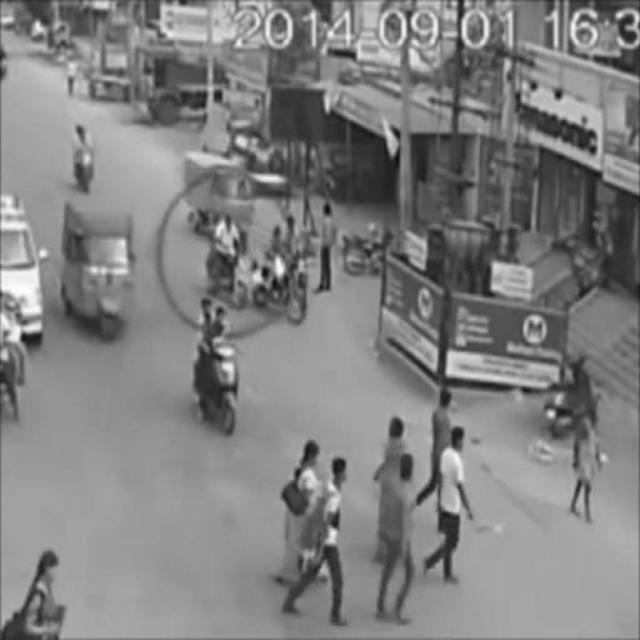accident: (195, 292, 243, 433)
person: (290, 440, 350, 622), (429, 418, 471, 588), (384, 455, 416, 623)
vehicle: (60, 201, 136, 342), (182, 156, 255, 252), (73, 123, 101, 196)
